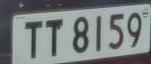1: (91, 9, 108, 58)
5: (104, 9, 128, 53)
8: (70, 12, 94, 60)
9: (125, 9, 148, 52)
T: (42, 16, 69, 62), (20, 19, 46, 63)
